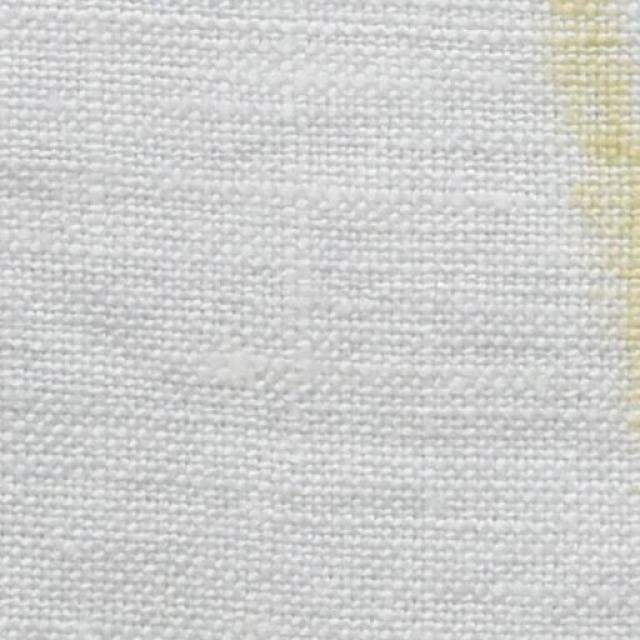Stain: (552, 0, 640, 438)
